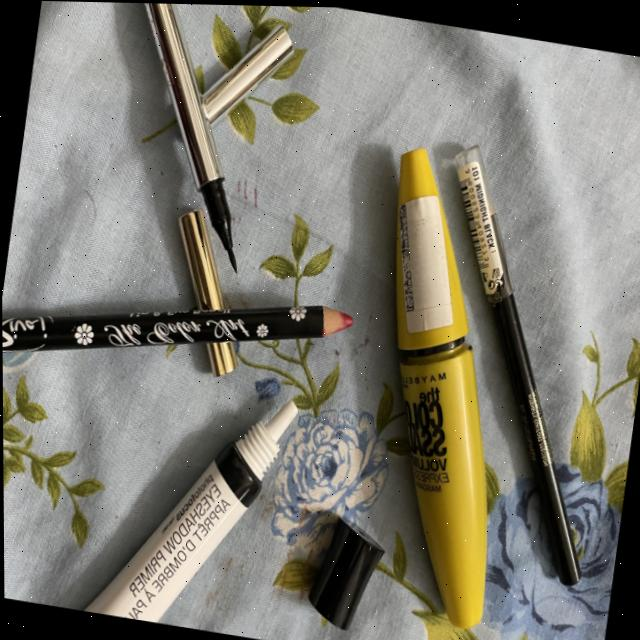eye liner: (404, 93, 640, 588), (78, 1, 296, 281)
lip liner: (1, 233, 370, 408)
mascara: (333, 236, 532, 640)
primer: (64, 367, 325, 640)
